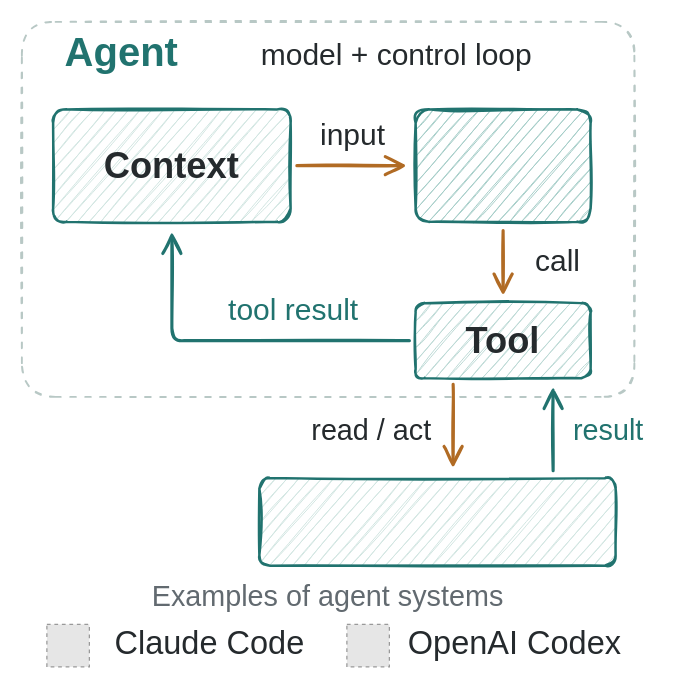
Image size: 678x690. Some labels were removed from this diagram. Grey dashed boxes stand in for pictures. Each missing label, with the centre of its shape:
Environment: (437,521)
LLM: (502,165)
